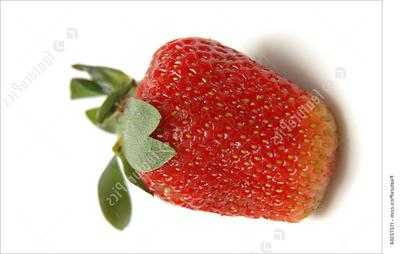strawberry: (0, 0, 400, 254)
